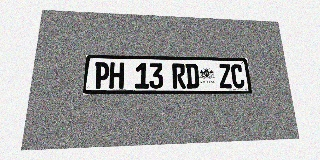1: (135, 63, 149, 88)
3: (149, 63, 163, 88)
C: (230, 64, 245, 88)
D: (185, 64, 199, 88)
H: (109, 62, 124, 89)
P: (94, 62, 110, 89)
R: (172, 63, 186, 88)
Z: (218, 64, 232, 88)
